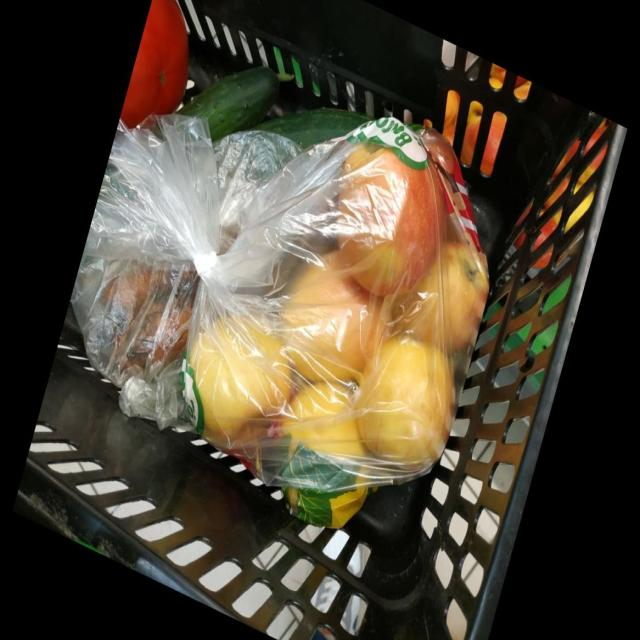Apple: (340, 150, 444, 296), (281, 250, 388, 382), (189, 317, 290, 443), (356, 336, 451, 469), (395, 241, 488, 352), (282, 384, 367, 456)
Cucumber: (176, 67, 278, 142), (246, 108, 374, 148)
Tomatoes: (120, 0, 186, 126)
